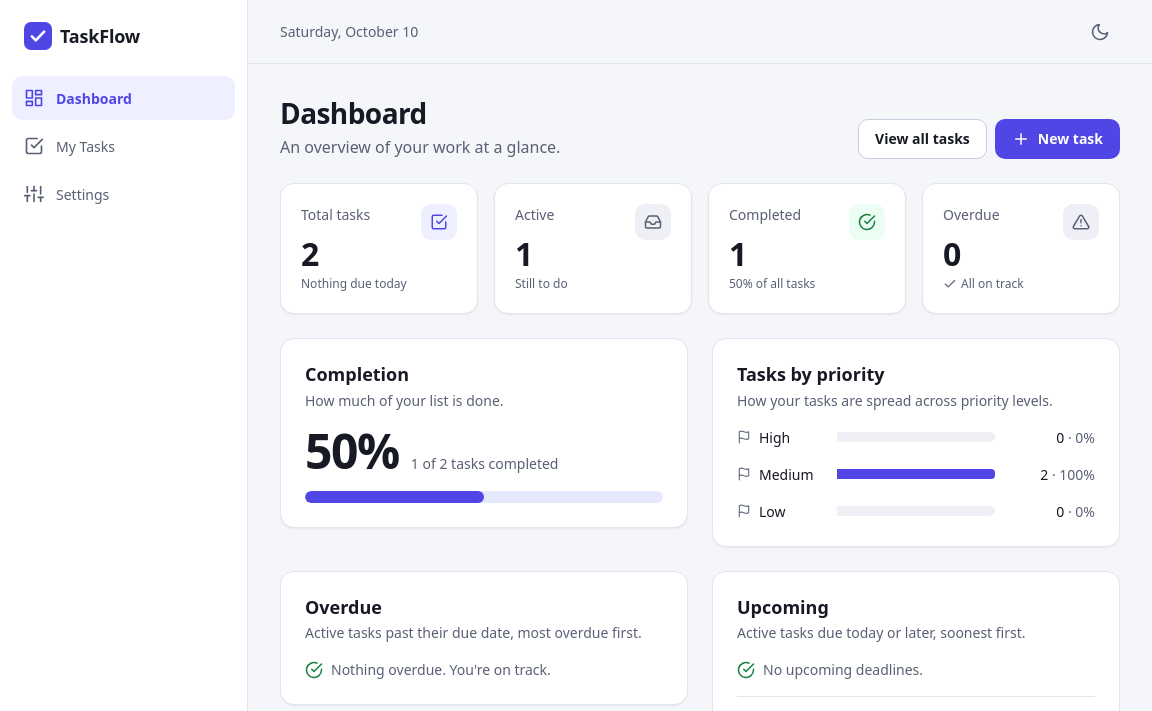
Test: pages › reflects stored tasks on the Dashboard and My Tasks pages
The width and height of the screenshot is (1152, 711).
Expected: the text "2" is shown, [301,232,319,275]
Expected: the 2nd text "1" is shown, [729,232,747,275]
Click the link "My Tasks": coordinates (69, 146) [24,136,115,156]
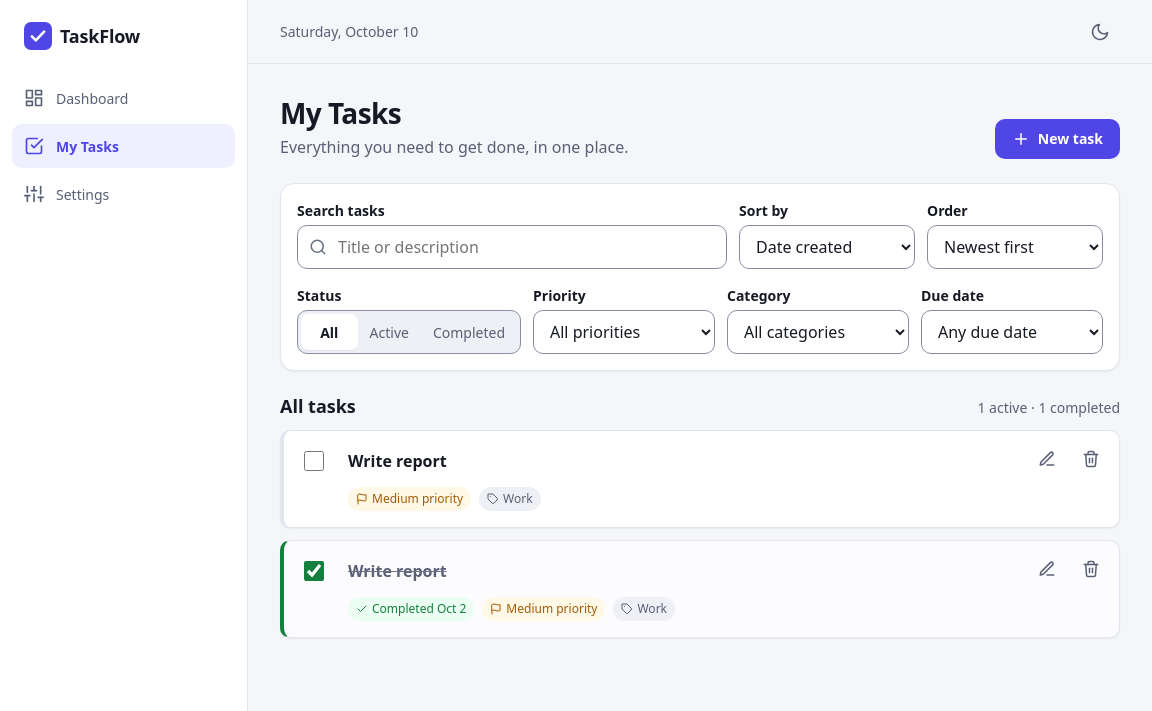
Expected: the number of checkboxes is 2, [304,451,324,471]; [304,561,324,581]
Expected: the text "1 active · 1 completed" is shown, [978,397,1120,418]
